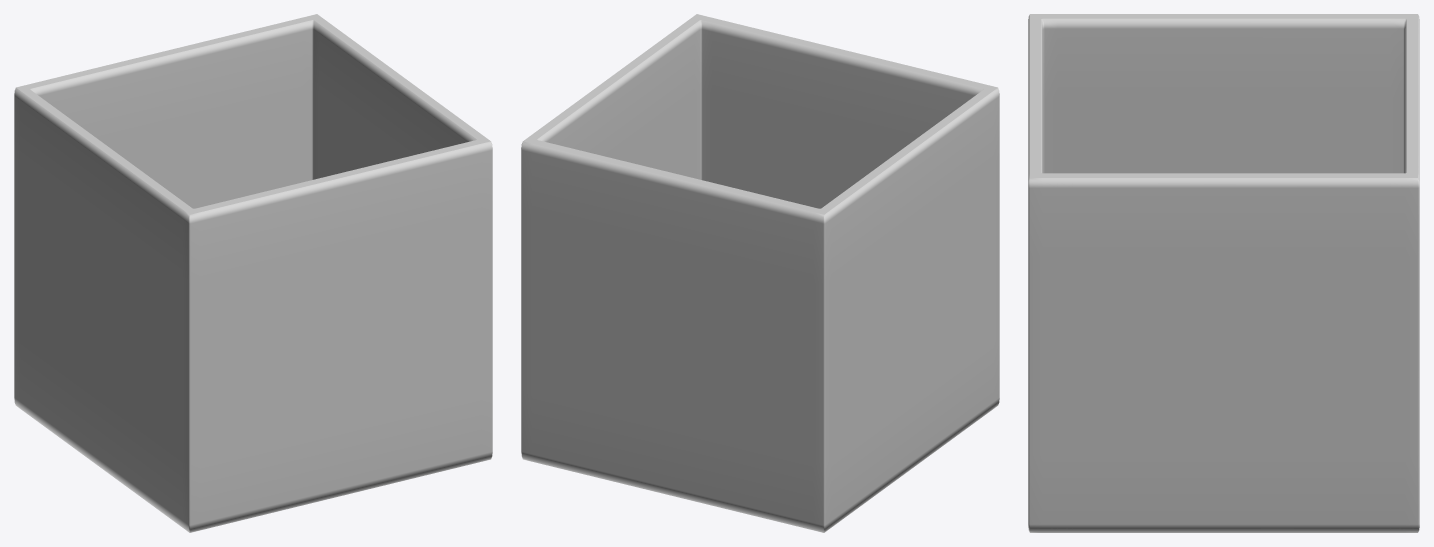
File: ScalableMesh_Ground__8.fbx
3 views of the same model, side by side, from view 1: azimuth 30°, elevation 25°; view 2: azimuth 150°, elevation 25°; view 3: azimuth 270°, elevation 25° (orthographic). The views are drawn at different scales.
Visible parts, largest first — view 1: Mat_Tile_Color_03 2; view 2: Mat_Tile_Color_03 2; view 3: Mat_Tile_Color_03 2.
Boxes of the visible parts, x1,y1,x2,y2 form: Mat_Tile_Color_03 2: (14,14,492,532); Mat_Tile_Color_03 2: (521,14,999,532); Mat_Tile_Color_03 2: (1028,14,1419,532).
Bounding box in the file's own units: 1 × 1 × 1.
1 material, 1 textured.
